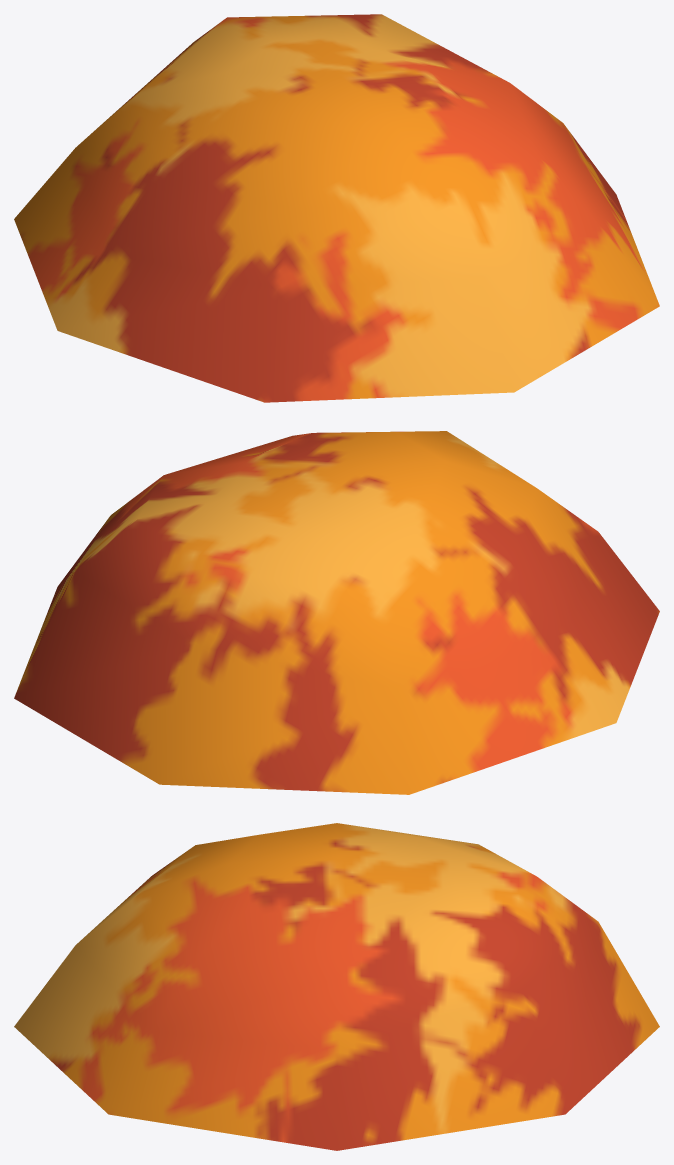
Rendered from MM_PileOfLeaves.fbx.
The picture shows the model from 3 angles, top to bottom: view 1: azimuth 30°, elevation 25°; view 2: azimuth 150°, elevation 25°; view 3: azimuth 270°, elevation 25°; orthographic projection. The views are drawn at different scales.
Parts seen in each view (by area): view 1: MM_PileOfLeaves; view 2: MM_PileOfLeaves; view 3: MM_PileOfLeaves.
Part boxes in pixels (x1=…): MM_PileOfLeaves: x1=14, y1=14, x2=659, y2=402; MM_PileOfLeaves: x1=14, y1=431, x2=659, y2=794; MM_PileOfLeaves: x1=14, y1=823, x2=659, y2=1150.
Size of the model in its own units: 84.74 by 26.95 by 93.14.
